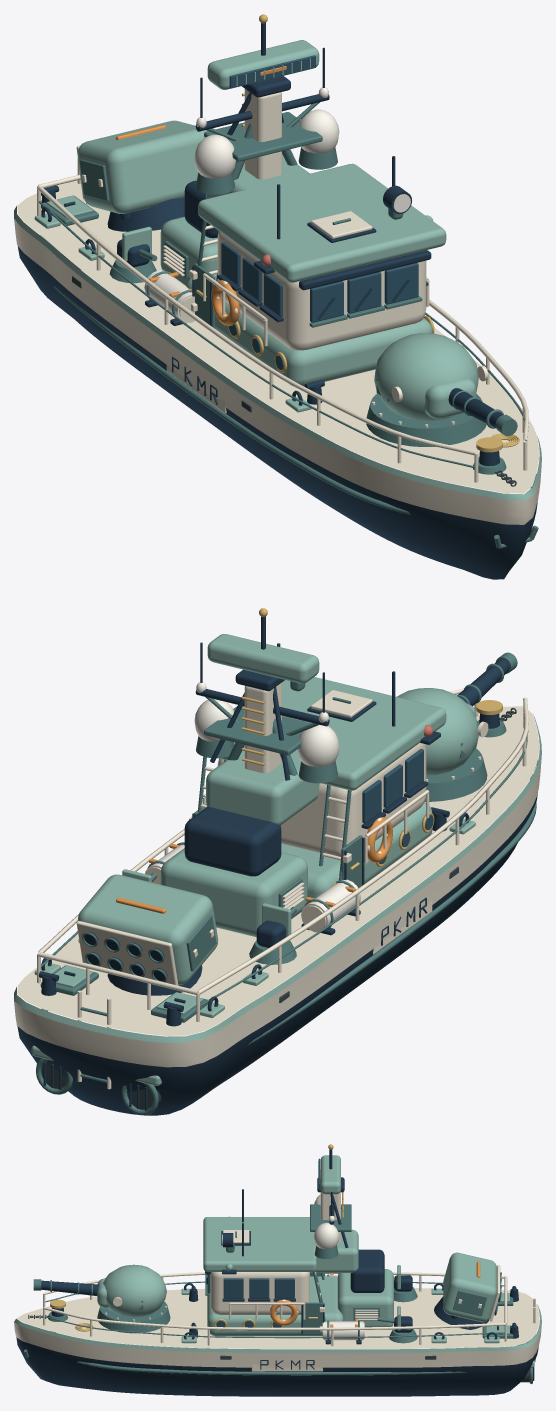
File: PKMR_Detailed.glb
3 renders of one model, top to bottom at view 1: azimuth 30°, elevation 25°; view 2: azimuth 150°, elevation 25°; view 3: azimuth 270°, elevation 25°, orthographic. The views are drawn at different scales.
Visible parts, largest first — view 1: Hull - cream, Bridge - mint, Hull - navy, Rounded launcher pack, Bridge - cream, ForwardDeckTurret - mint, Bridge - glass, SafetyRails - cream, DetailedDeckAndHull - teal, Mint deck edge, MastAndSensors - teal, ForwardDeckTurret - teal (+18 smaller); view 2: Hull - cream, Hull - navy, Bridge - mint, MastAndSensors - mint, AftDeck - mint, Rounded launcher pack, Bridge - cream, AftDeck - navy, SafetyRails - cream, DetailedDeckAndHull - teal, Mint deck edge, MastAndSensors - teal (+22 smaller); view 3: Hull - cream, Hull - navy, Bridge - mint, DetailedDeckAndHull - teal, ForwardDeckTurret - mint, Bridge - cream, SafetyRails - cream, Rounded launcher pack, Mint deck edge, AftDeck - mint, MastAndSensors - mint, AftDeck - navy (+19 smaller).
Part boxes in pixels (left/top/right/bottom): Hull - cream: left=14, top=180, right=541, bottom=524; Bridge - mint: left=186, top=163, right=446, bottom=386; Hull - navy: left=17, top=246, right=537, bottom=579; Rounded launcher pack: left=78, top=120, right=207, bottom=213; Bridge - cream: left=189, top=211, right=426, bottom=350; ForwardDeckTurret - mint: left=374, top=333, right=478, bottom=420; Bridge - glass: left=221, top=242, right=428, bottom=369; SafetyRails - cream: left=37, top=174, right=528, bottom=482; DetailedDeckAndHull - teal: left=38, top=201, right=538, bottom=548; Mint deck edge: left=14, top=206, right=541, bottom=501; MastAndSensors - teal: left=196, top=102, right=337, bottom=194; ForwardDeckTurret - teal: left=366, top=378, right=517, bottom=446; Hull - cream: left=14, top=706, right=541, bottom=1067; Hull - navy: left=17, top=792, right=537, bottom=1115; Bridge - mint: left=219, top=677, right=446, bottom=901; MastAndSensors - mint: left=206, top=634, right=319, bottom=825; AftDeck - mint: left=122, top=848, right=307, bottom=937; Rounded launcher pack: left=78, top=874, right=218, bottom=985; Bridge - cream: left=189, top=690, right=426, bottom=863; AftDeck - navy: left=184, top=807, right=286, bottom=947; SafetyRails - cream: left=37, top=688, right=528, bottom=1021; DetailedDeckAndHull - teal: left=41, top=720, right=537, bottom=1082; Mint deck edge: left=14, top=715, right=541, bottom=1043; MastAndSensors - teal: left=196, top=697, right=337, bottom=783; Hull - cream: left=14, top=1288, right=541, bottom=1367; Hull - navy: left=16, top=1337, right=538, bottom=1396; Bridge - mint: left=203, top=1217, right=343, bottom=1336; DetailedDeckAndHull - teal: left=24, top=1270, right=504, bottom=1375; ForwardDeckTurret - mint: left=97, top=1264, right=166, bottom=1317; Bridge - cream: left=210, top=1230, right=324, bottom=1331; SafetyRails - cream: left=43, top=1272, right=507, bottom=1346; Rounded launcher pack: left=443, top=1252, right=496, bottom=1322; Mint deck edge: left=14, top=1304, right=541, bottom=1353; AftDeck - mint: left=337, top=1265, right=400, bottom=1330; MastAndSensors - mint: left=310, top=1155, right=358, bottom=1272; AftDeck - navy: left=350, top=1249, right=412, bottom=1332.
Bounding box in the file's own units: 1.73 × 3.1 × 6.19.
